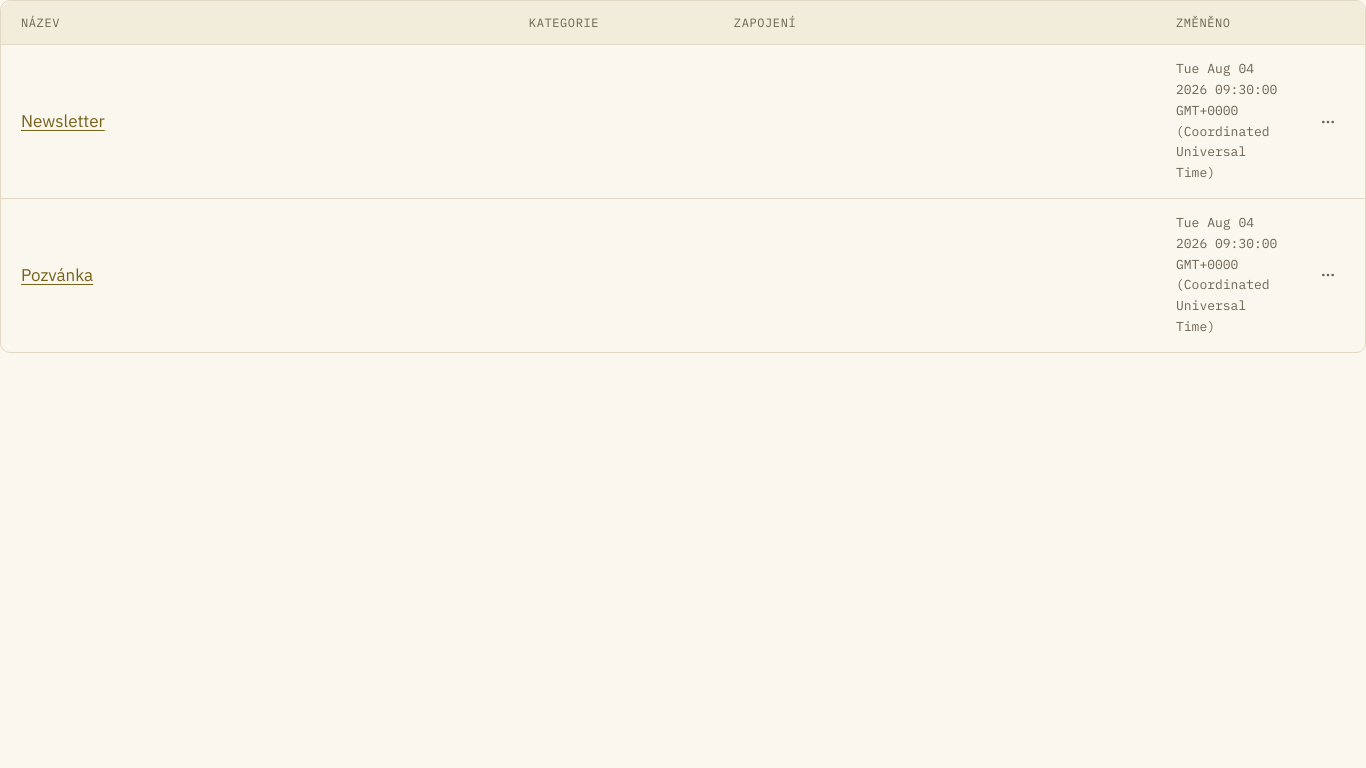
Test case: knihovna šablon › neúspěšné smazání zavře okno a řekne důvod na obrazovce
The width and height of the screenshot is (1366, 768).
Click the button named "Další akce se šablonou" at (1328, 122), box [1311,105,1345,139]
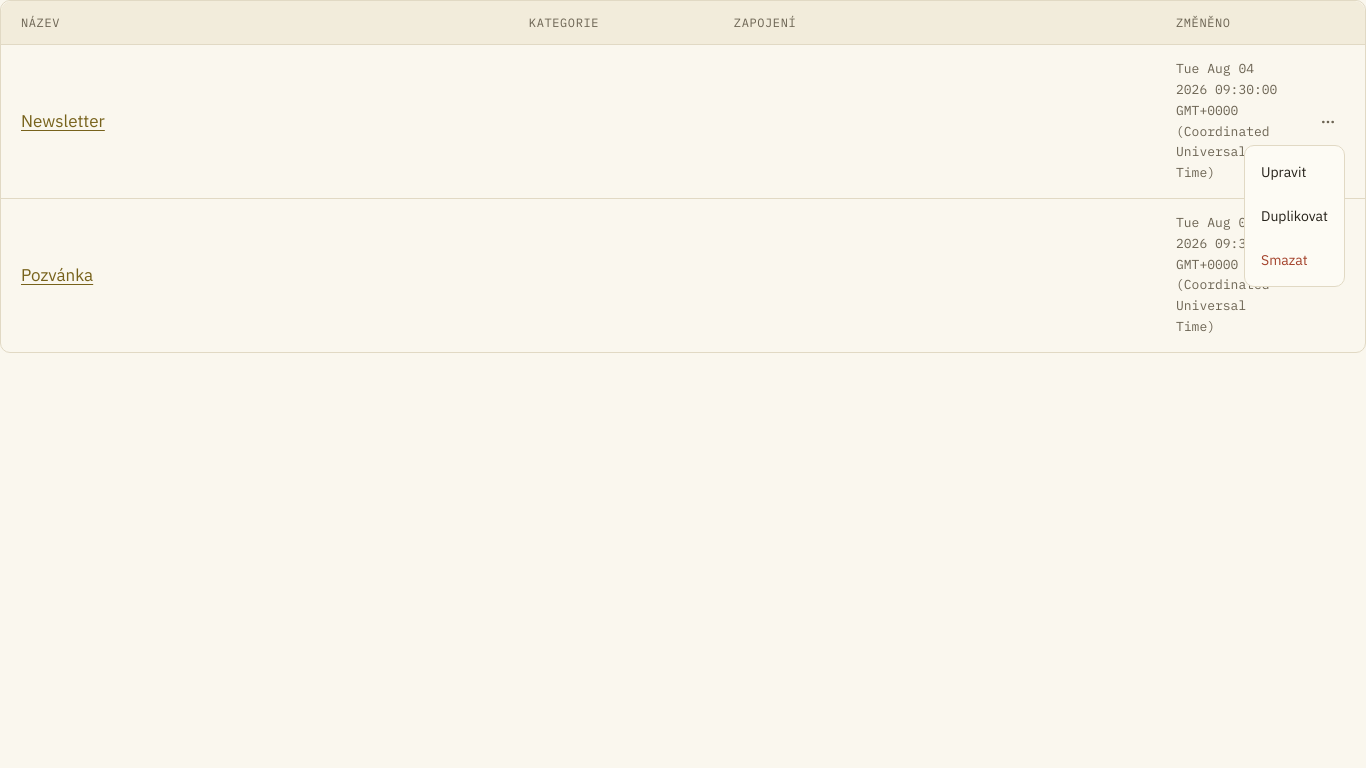
Click the menu item "Smazat" at (1284, 260), box [1261,251,1308,269]
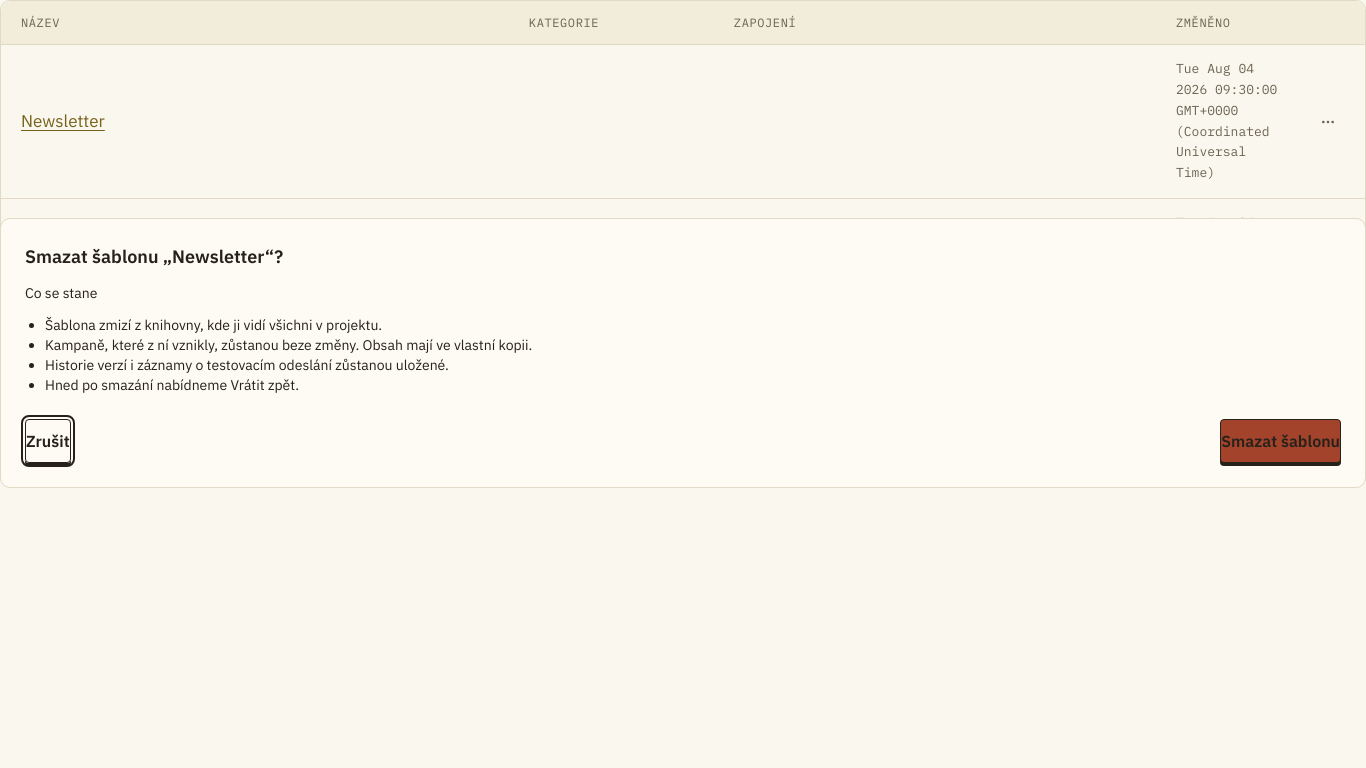
Click the button "Smazat šablonu" at (1281, 441), box [1220,419,1341,463]
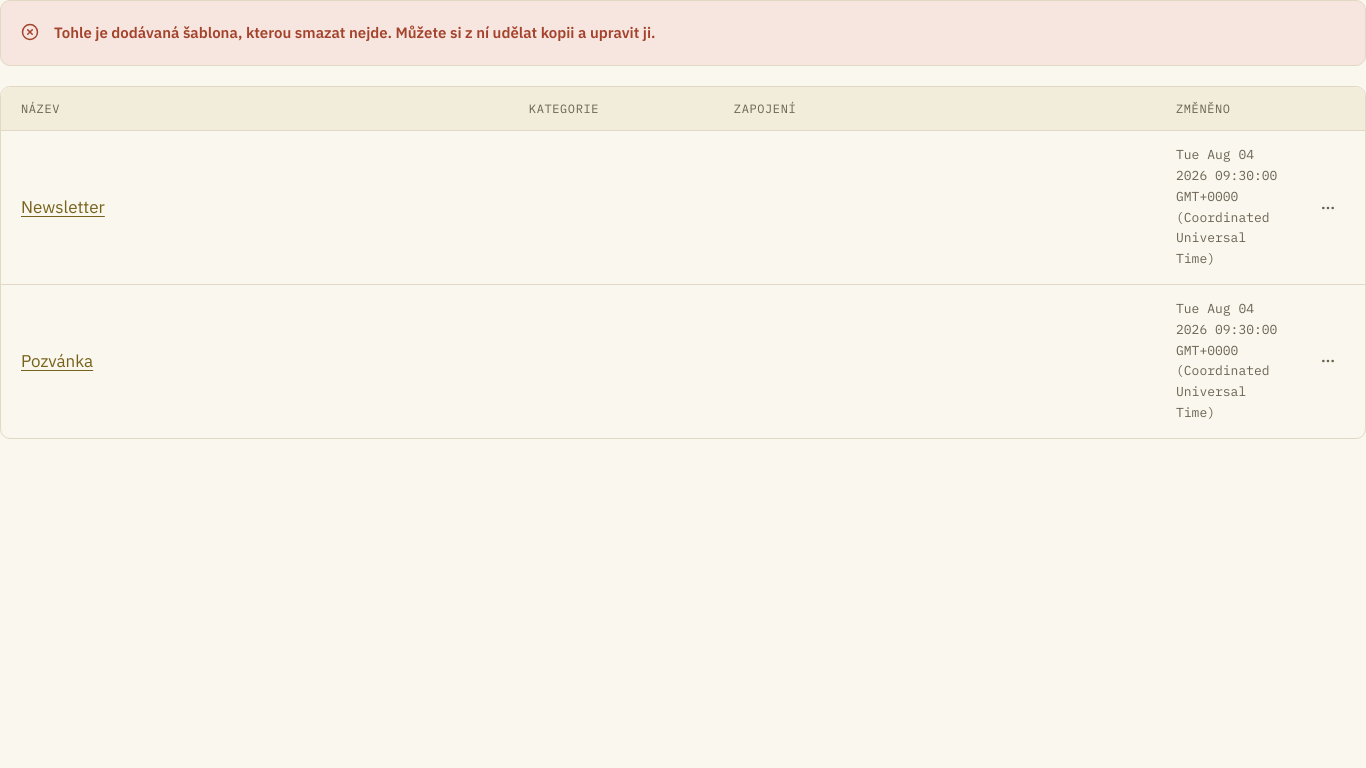
Expected: the dialog is gone
Expected: the text "Tohle je dodávaná šablona" is shown, [54,23,656,42]
